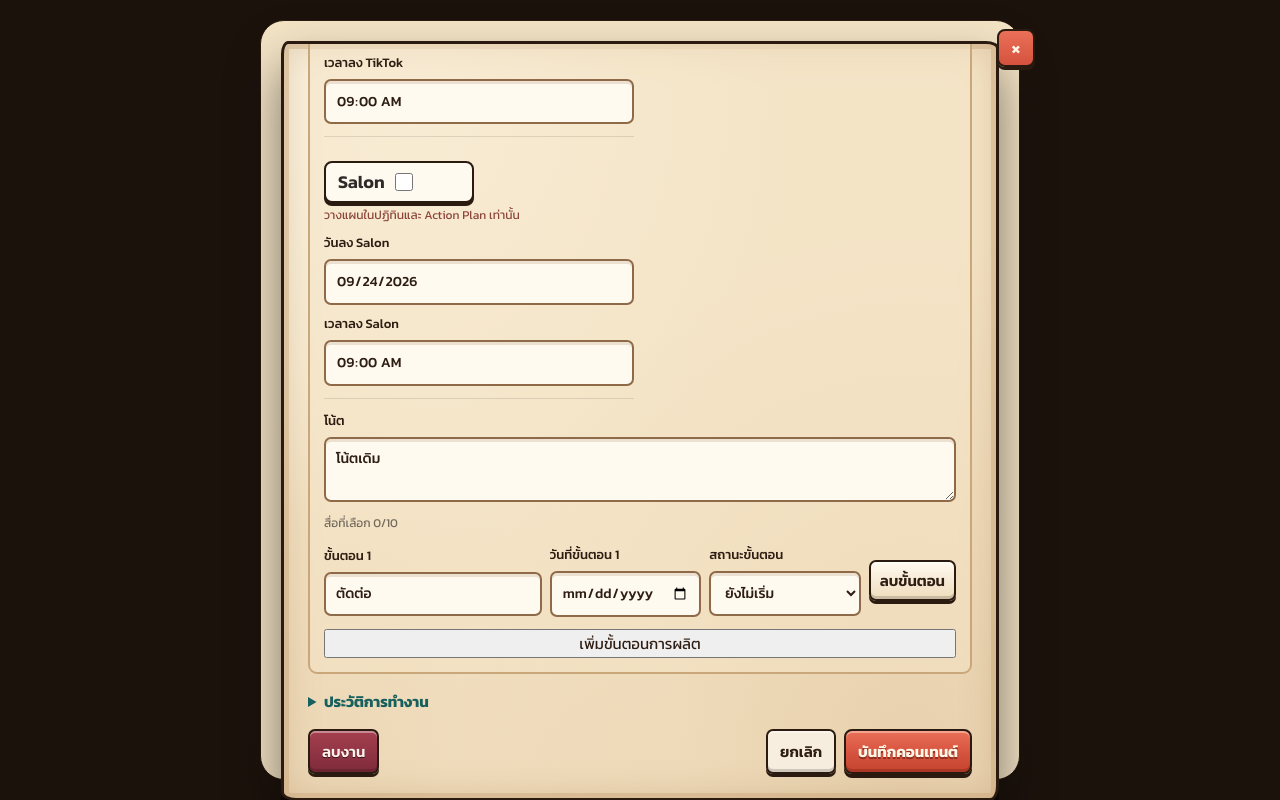
Test case: full content editor › hides work history until its disclosure is opened
(page scrolled)
Step 1. Click the heading "ประวัติการทำงาน" → (368, 701), box [308,690,429,713]
(page scrolled)
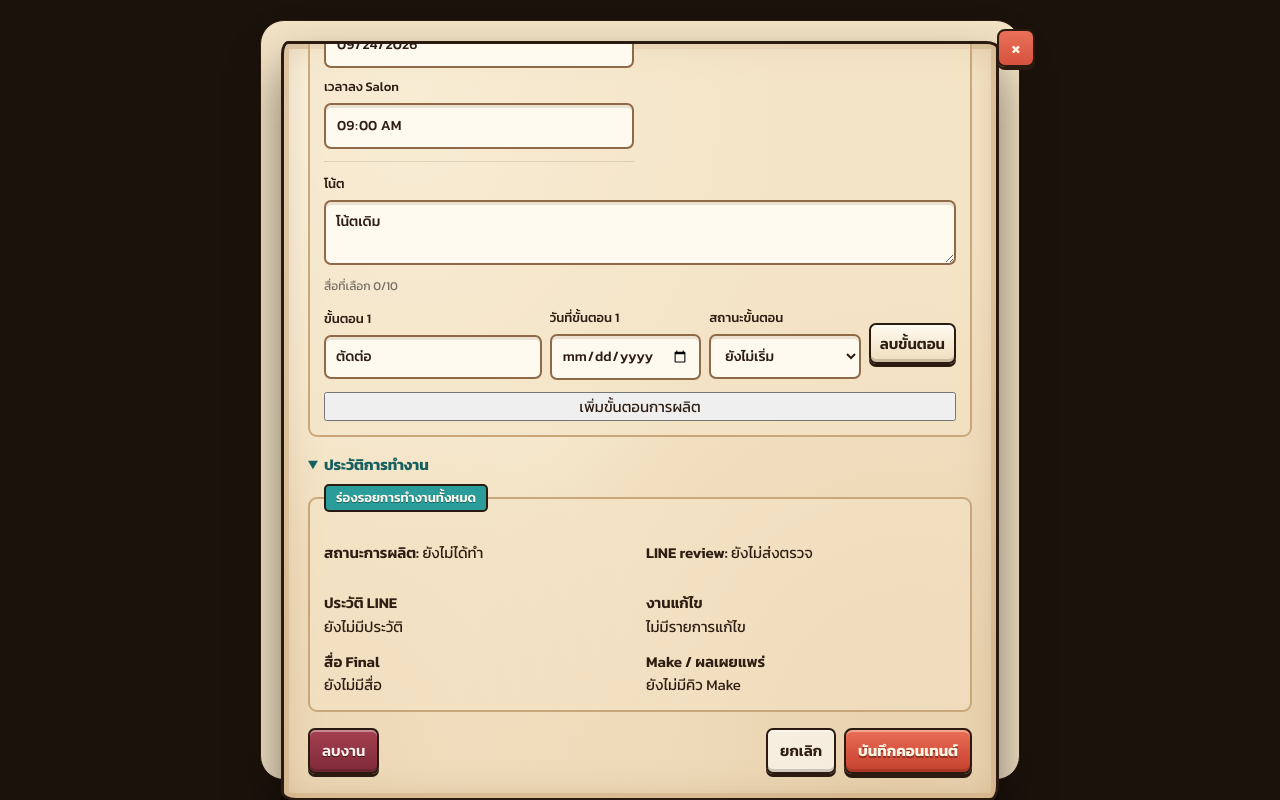
Now the text "LINE review:" is shown, box [646,541,728,564]
